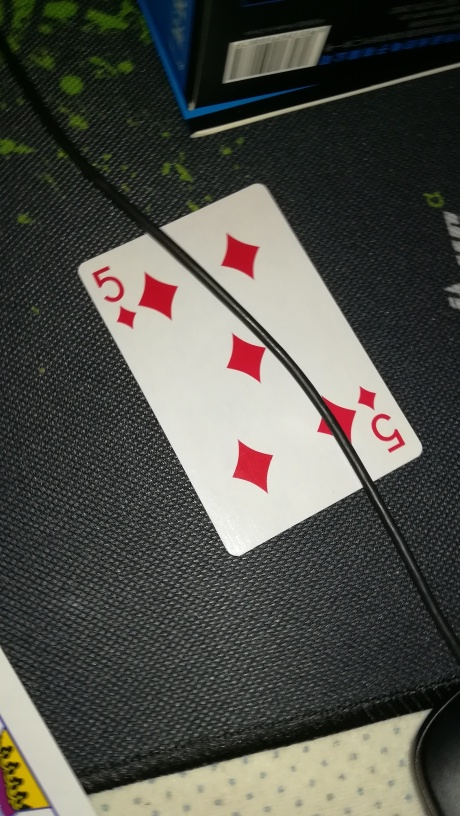fk 5: (75, 179, 424, 557)
